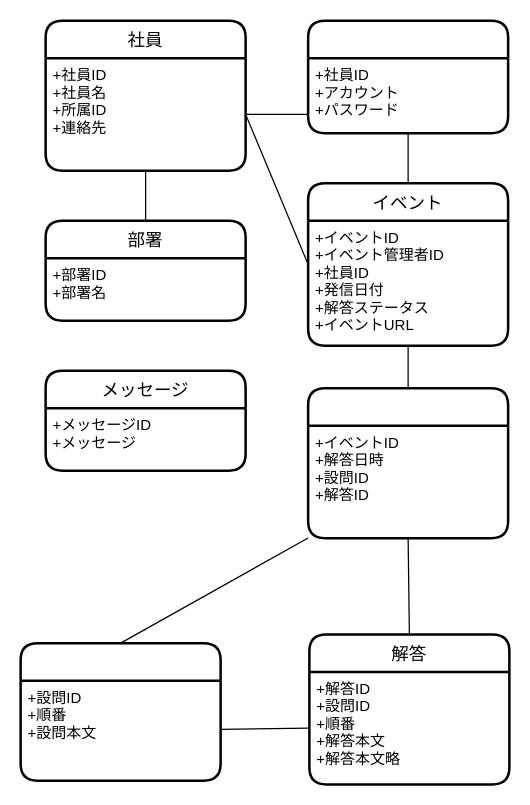
This 530x805 diagram has some shape labels left out. Here are the shapes that lost their labels. From the top down, the box of each, then its label:
(306, 19, 509, 134): イベント管理者
(306, 386, 509, 539): イベント詳細
(19, 641, 221, 781): 設問
